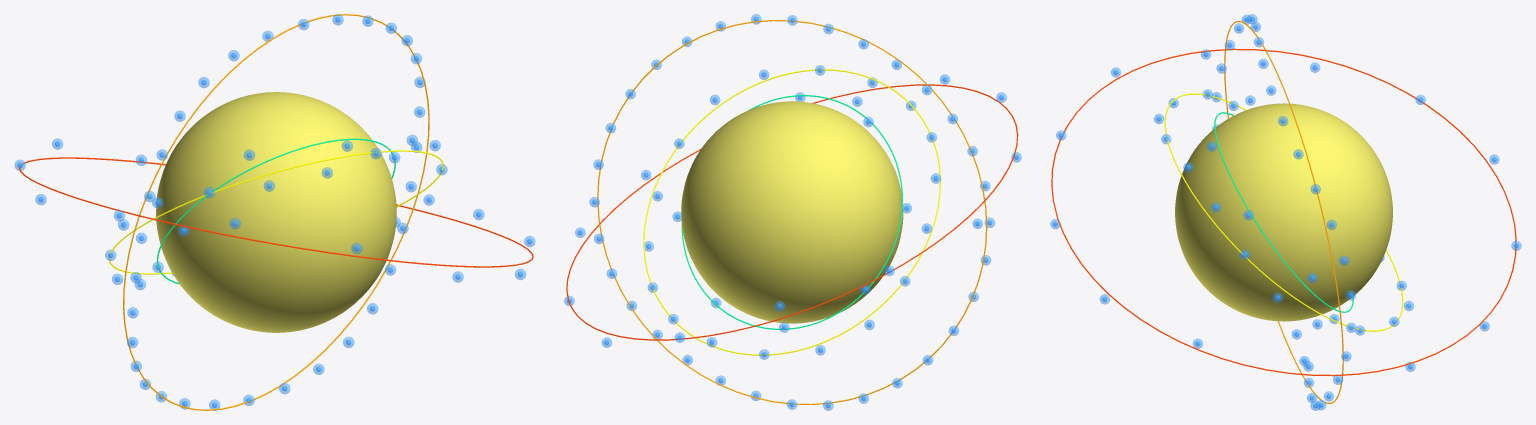
3 renders of one model, left to right at view 1: azimuth 30°, elevation 25°; view 2: azimuth 150°, elevation 25°; view 3: azimuth 270°, elevation 25°, orthographic. The views are drawn at different scales.
Parts seen in each view (by area): view 1: Ta, object 61, object 126, object 24, object 7; view 2: Ta, object 61, object 126, object 24, object 7; view 3: Ta, object 126, object 61, object 24, object 7.
Boxes of the visible parts, bbox=[...] form: Ta: bbox=[156, 92, 396, 332]; object 61: bbox=[123, 14, 429, 410]; object 126: bbox=[19, 157, 533, 267]; object 24: bbox=[108, 150, 443, 274]; object 7: bbox=[157, 138, 395, 284]; Ta: bbox=[681, 101, 903, 323]; object 61: bbox=[597, 20, 987, 404]; object 126: bbox=[566, 84, 1018, 340]; object 24: bbox=[643, 69, 941, 355]; object 7: bbox=[681, 95, 902, 329]; Ta: bbox=[1175, 103, 1392, 321]; object 126: bbox=[1051, 48, 1516, 376]; object 61: bbox=[1224, 21, 1343, 403]; object 24: bbox=[1164, 93, 1403, 331]; object 7: bbox=[1214, 112, 1353, 312].
Bounding box in the file's own units: 7.09 × 6.1 × 7.19.
